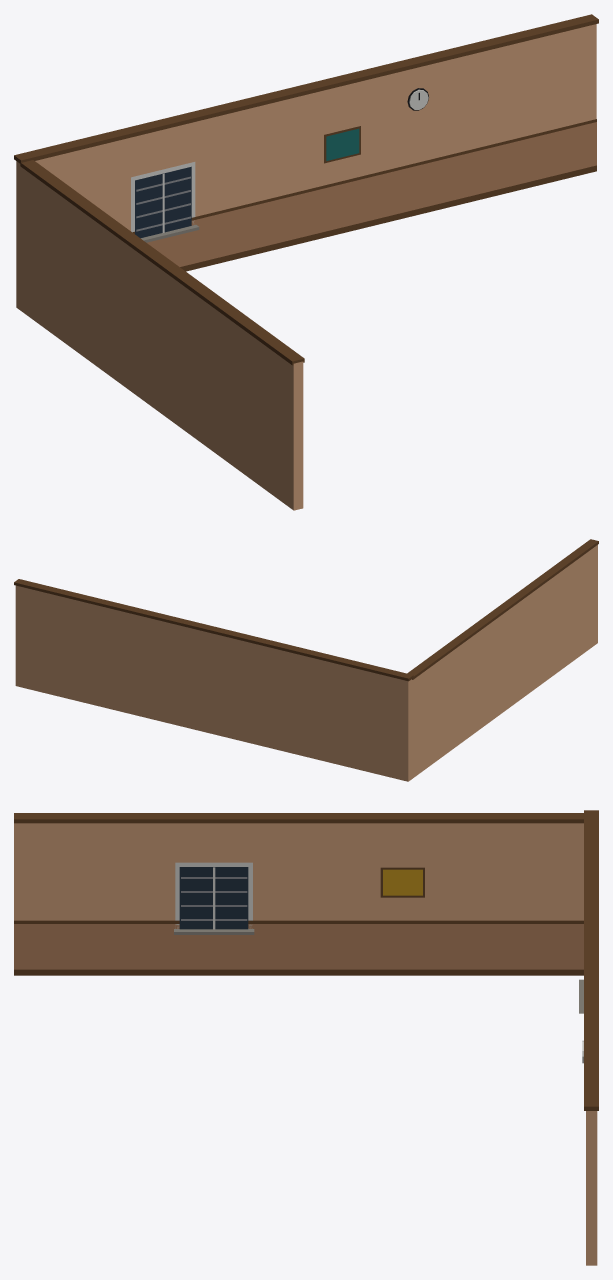
The model's file is bld_room_parlour.glb.
3 views of the same model, one above another, from view 1: azimuth 30°, elevation 25°; view 2: azimuth 150°, elevation 25°; view 3: azimuth 270°, elevation 25° (orthographic). The views are drawn at different scales.
Visible parts, largest first — view 1: body; view 2: body; view 3: body.
Boxes of the visible parts, x1=… form: body: x1=14, y1=14, x2=598, y2=510; body: x1=14, y1=539, x2=598, y2=781; body: x1=14, y1=810, x2=598, y2=1265.
Bounding box in the file's own units: 12.26 × 3.08 × 10.23.
